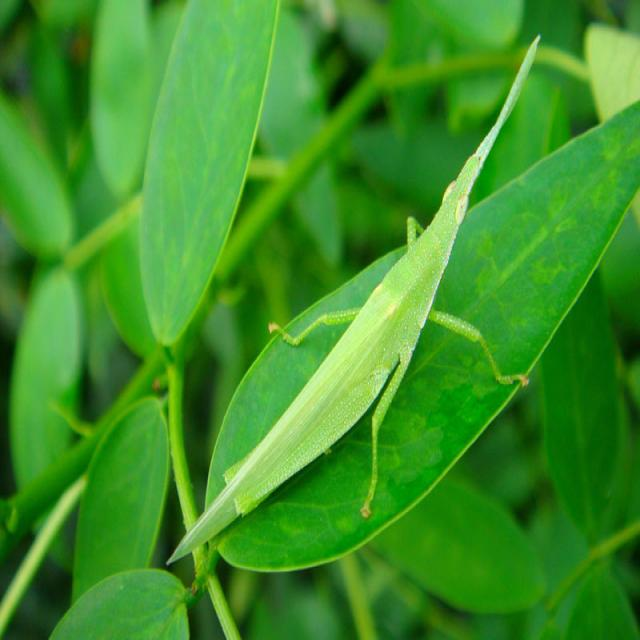ZhaMeng: (168, 21, 558, 587)
